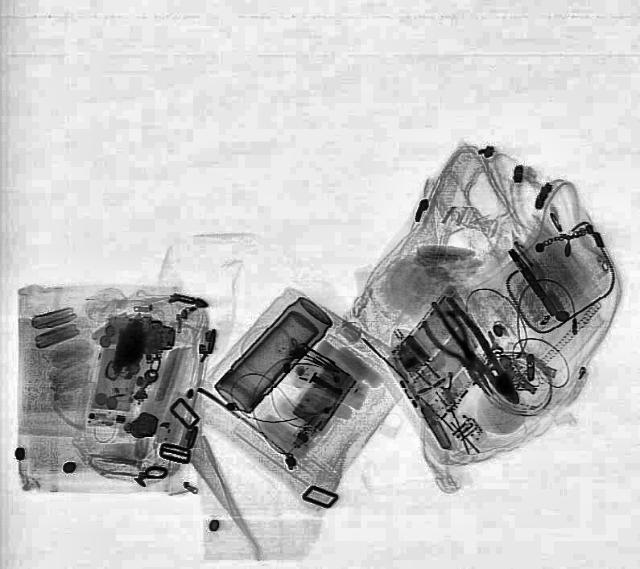Pliers: (426, 290, 530, 410), (418, 305, 508, 405)
